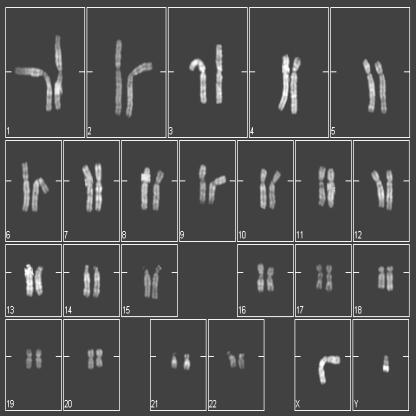1: (10, 62, 52, 114), (54, 34, 64, 116)
10: (269, 158, 282, 212), (257, 164, 268, 212)
11: (326, 153, 338, 211), (316, 162, 326, 210)
12: (367, 166, 385, 212), (385, 153, 397, 213)
13: (22, 260, 36, 300), (34, 250, 44, 304)
14: (92, 262, 103, 304), (82, 257, 91, 304)
15: (152, 256, 162, 300), (140, 266, 152, 300)
16: (255, 258, 267, 298), (266, 254, 276, 300)
17: (323, 258, 336, 296), (314, 261, 324, 294)
18: (385, 252, 395, 296), (376, 261, 386, 294)
19: (22, 344, 35, 372), (36, 340, 44, 374)
2: (127, 58, 154, 120), (112, 34, 123, 122)
20: (96, 336, 106, 376), (84, 344, 96, 375)
21: (182, 348, 194, 374), (168, 349, 179, 373)
22: (224, 347, 236, 372), (238, 342, 247, 375)
3: (186, 56, 208, 106), (212, 40, 226, 108)
4: (276, 48, 290, 113), (291, 52, 301, 116)
5: (376, 47, 390, 117), (360, 55, 376, 116)
6: (31, 170, 51, 214), (18, 159, 30, 214)
7: (80, 160, 94, 218), (95, 150, 104, 220)
8: (138, 164, 154, 211), (152, 156, 164, 212)
9: (208, 173, 228, 208), (196, 161, 206, 207)
X: (316, 352, 342, 386)
Y: (380, 350, 390, 380)
